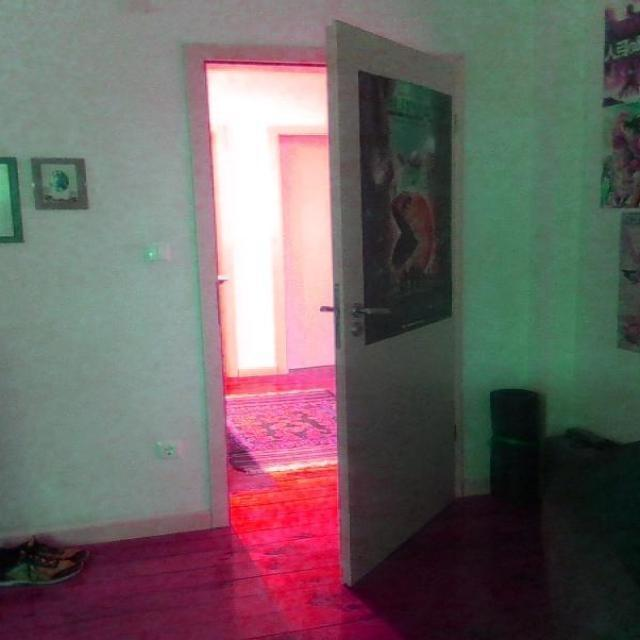door: (326, 18, 463, 587)
